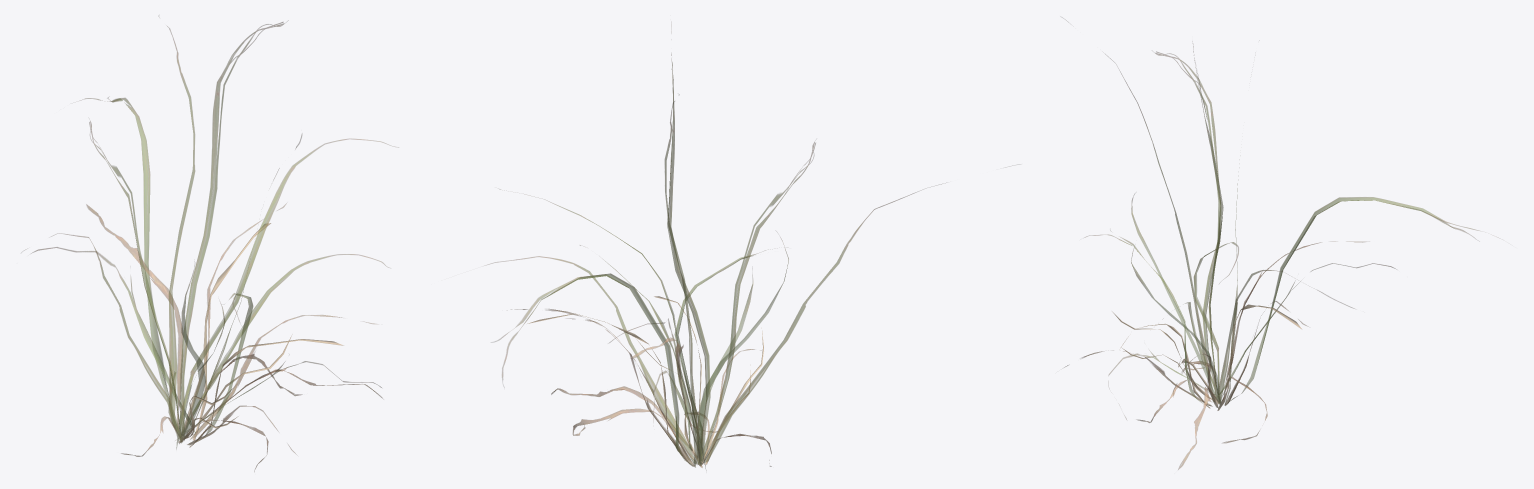
File: grassclip.glb
3 renders of one model, left to right at view 1: azimuth 30°, elevation 25°; view 2: azimuth 150°, elevation 25°; view 3: azimuth 270°, elevation 25°, orthographic. The views are drawn at different scales.
Parts seen in each view (by area): view 1: grass_medium_02_c; view 2: grass_medium_02_c; view 3: grass_medium_02_c.
Part boxes in pixels (x1=…): grass_medium_02_c: x1=24, y1=16, x2=398, y2=471; grass_medium_02_c: x1=485, y1=24, x2=941, y2=470; grass_medium_02_c: x1=1062, y1=17, x2=1497, y2=469.
Bounding box in the file's own units: 0.2589 × 0.2317 × 0.2495.
1 material, 1 textured.
